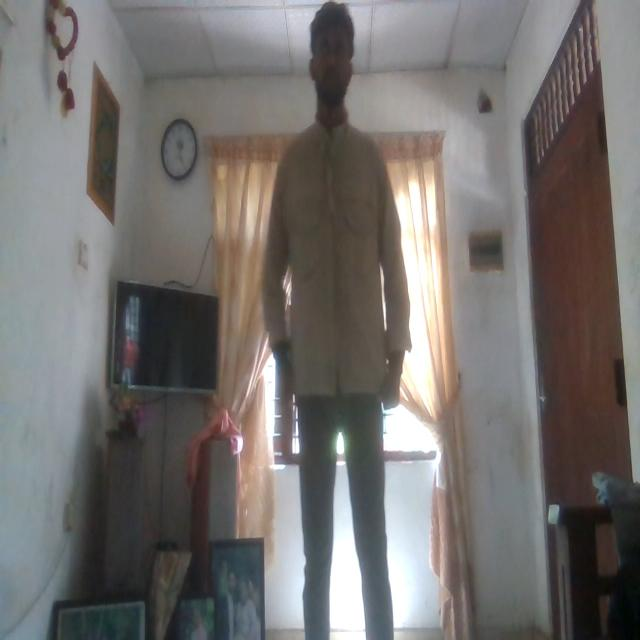Jacket_Wearer: (264, 108, 414, 406)
Person: (269, 2, 411, 640)
